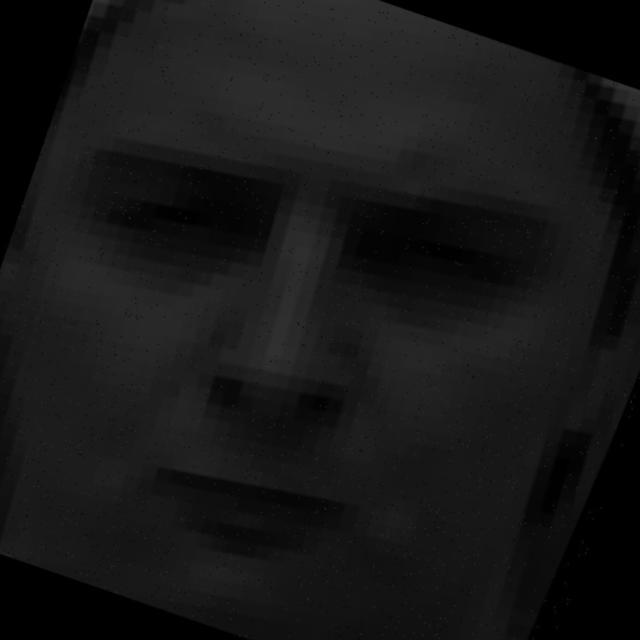Disgust: (40, 63, 625, 616)
